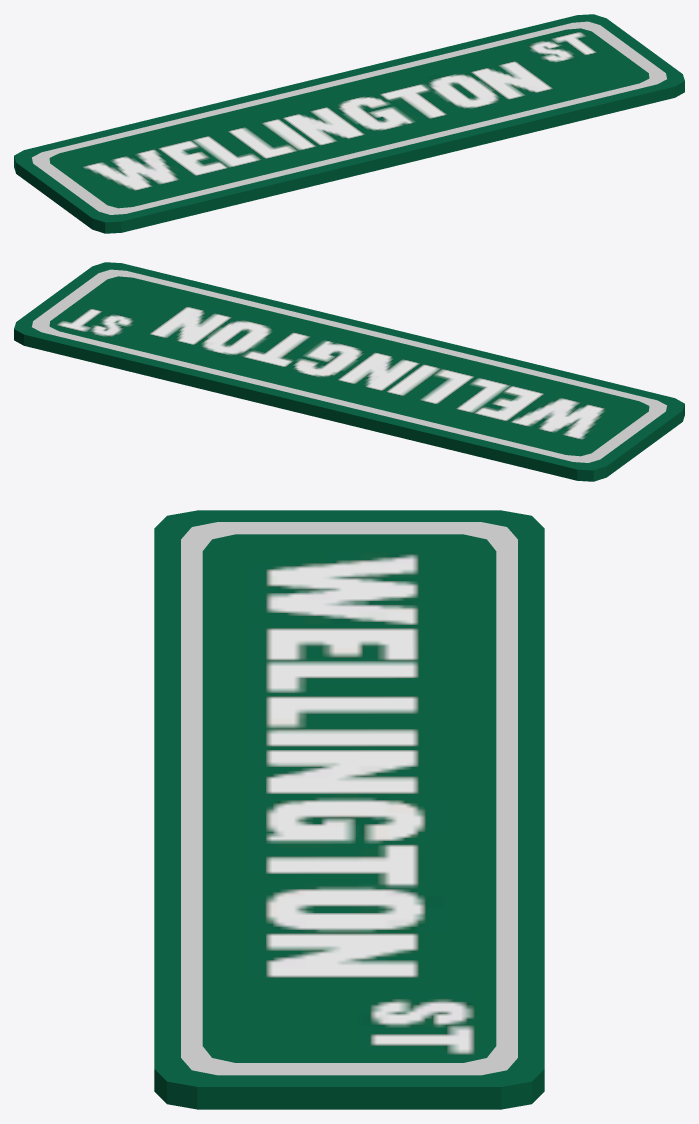
File: SM_Prop_Sign_Street_02.obj
The picture shows the model from 3 angles, top to bottom: view 1: azimuth 30°, elevation 25°; view 2: azimuth 150°, elevation 25°; view 3: azimuth 270°, elevation 25°; orthographic projection. The views are drawn at different scales.
Parts seen in each view (by area): view 1: SM_Prop_Sign_Street_02_0; view 2: SM_Prop_Sign_Street_02_0; view 3: SM_Prop_Sign_Street_02_0.
Part boxes in pixels (x1,y1,x2,y2): SM_Prop_Sign_Street_02_0: (14, 14, 684, 233); SM_Prop_Sign_Street_02_0: (14, 262, 684, 481); SM_Prop_Sign_Street_02_0: (154, 510, 544, 1109).
Size of the model in its own units: 1.28 by 0.0234 by 0.3662.
1 material, 1 textured.
